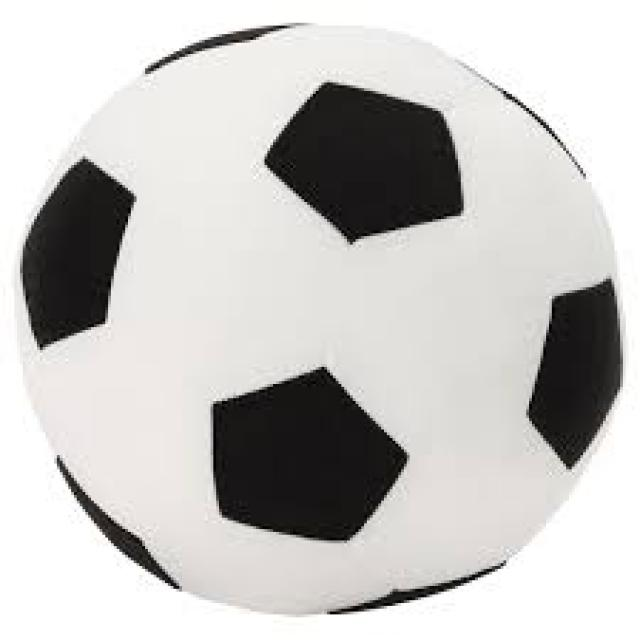ball: (17, 21, 624, 615)
